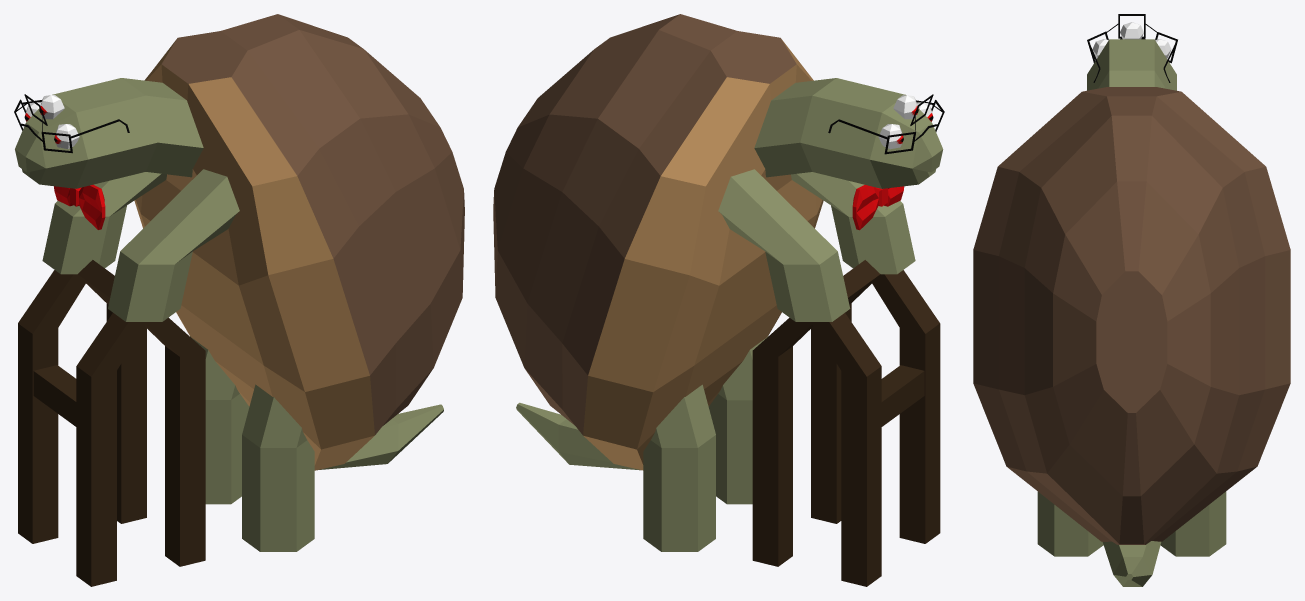
The model's file is Turtle_Model_Boss_Op.fbx.
The picture shows the model from 3 angles, left to right: view 1: azimuth 30°, elevation 25°; view 2: azimuth 150°, elevation 25°; view 3: azimuth 270°, elevation 25°; orthographic projection. The views are drawn at different scales.
Visible parts, largest first — view 1: Shell, Cube, Face, Arm2, Leg2, Arm1, Leg1, Tail, Tie, Eyes, Lens; view 2: Shell, Cube, Face, Arm1, Leg1, Arm2, Leg2, Tail, Tie, Eyes, Lens; view 3: Shell, Face, Leg1, Leg2, Tail, Eyes, Lens.
Part boxes in pixels (bbox=[...]): Shell: bbox=[134, 14, 464, 470]; Cube: bbox=[18, 260, 205, 586]; Face: bbox=[15, 78, 203, 188]; Arm2: bbox=[108, 169, 239, 321]; Leg2: bbox=[242, 384, 314, 551]; Arm1: bbox=[42, 172, 166, 274]; Leg1: bbox=[190, 336, 249, 504]; Tail: bbox=[317, 404, 443, 470]; Tie: bbox=[54, 184, 105, 229]; Eyes: bbox=[24, 95, 79, 148]; Lens: bbox=[14, 94, 129, 153]; Shell: bbox=[493, 14, 823, 470]; Cube: bbox=[752, 260, 940, 586]; Face: bbox=[754, 78, 943, 188]; Arm1: bbox=[718, 169, 850, 321]; Leg1: bbox=[643, 384, 715, 551]; Arm2: bbox=[791, 172, 915, 274]; Leg2: bbox=[708, 336, 767, 504]; Tail: bbox=[516, 402, 640, 470]; Tie: bbox=[852, 185, 904, 230]; Eyes: bbox=[878, 95, 933, 149]; Lens: bbox=[828, 94, 944, 154]; Shell: bbox=[973, 87, 1290, 544]; Face: bbox=[1087, 39, 1176, 90]; Leg1: bbox=[1160, 491, 1226, 556]; Leg2: bbox=[1037, 491, 1103, 556]; Tail: bbox=[1102, 541, 1161, 586]; Eyes: bbox=[1092, 22, 1171, 58]; Lens: bbox=[1087, 14, 1177, 82].
Size of the model in its own units: 1.67 by 1.77 by 1.14.
Materials: 6 (4 with a texture image).
